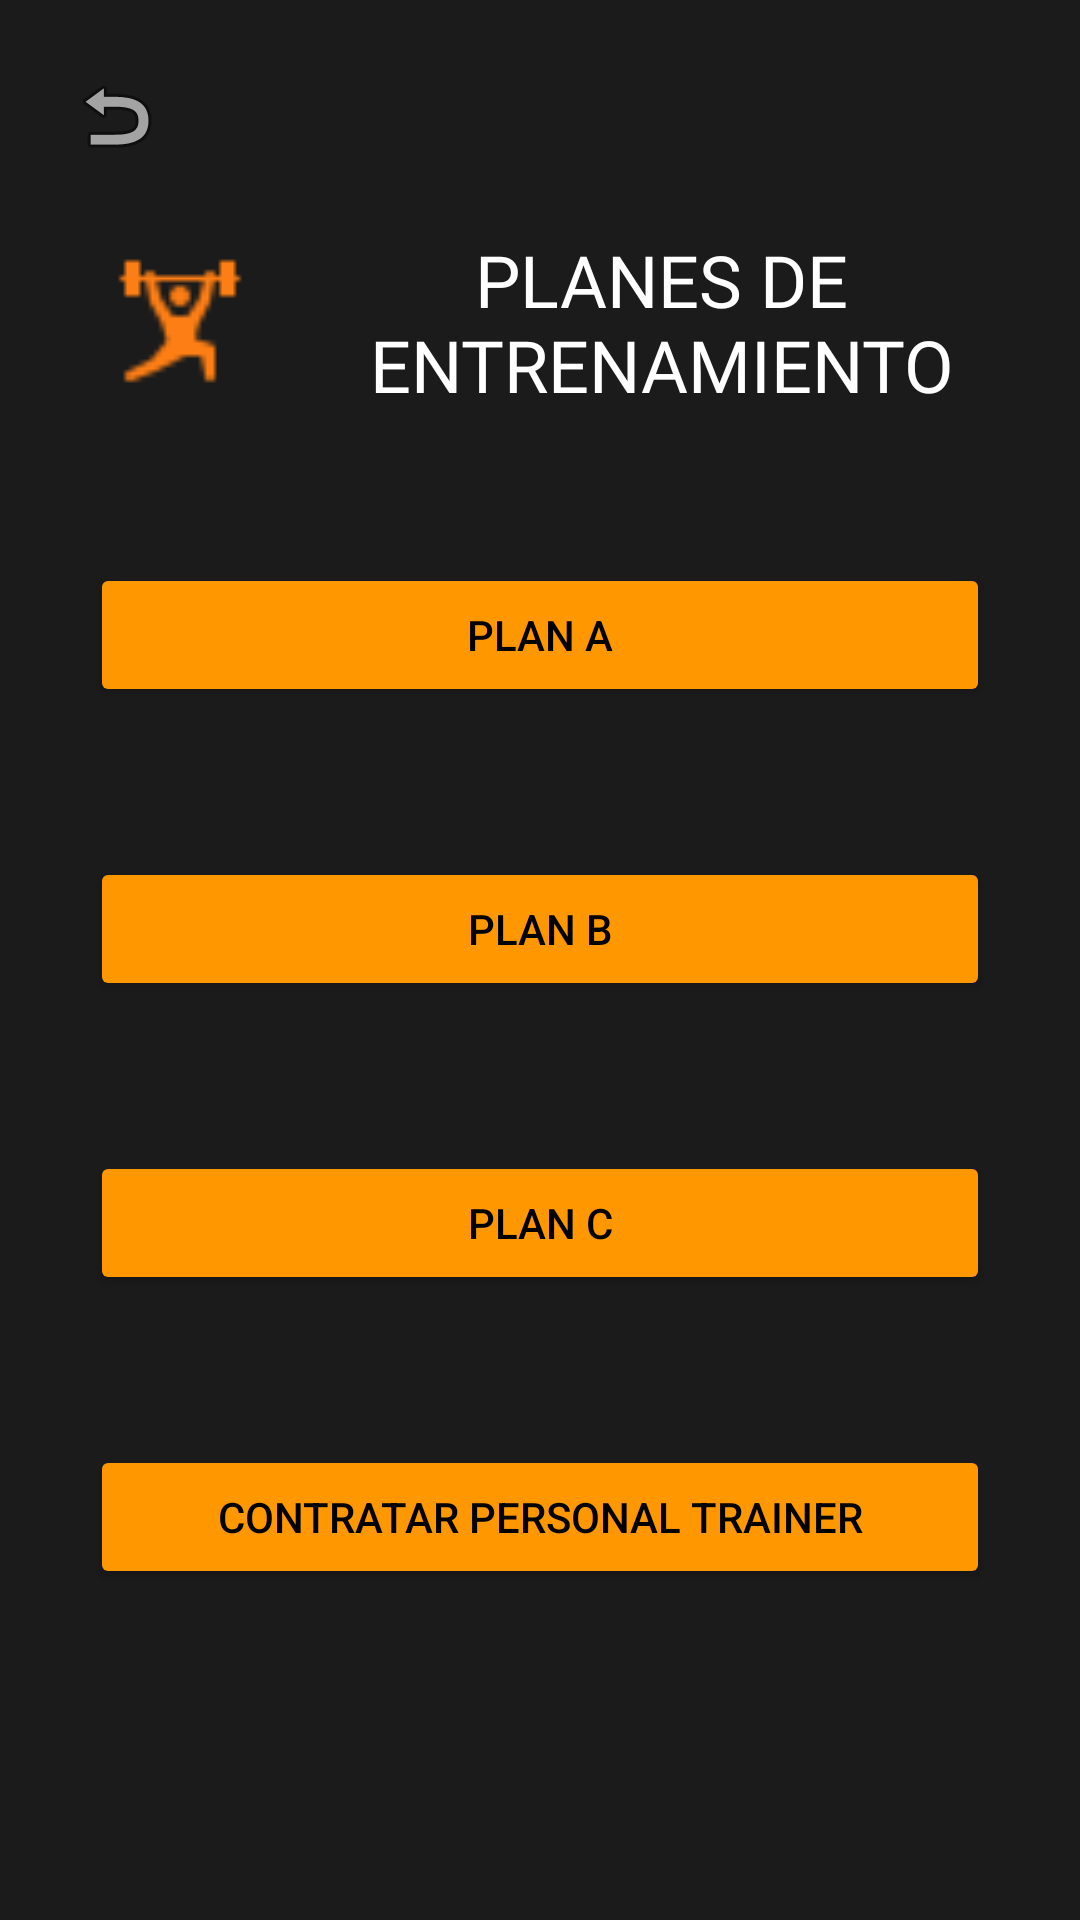

Named icons in this screenshot (1080 × 1920) and their bounding boxes, BBox(x1, y1, x2, y2):
volver: BBox(86, 88, 149, 145)
weightlifting: BBox(118, 259, 242, 383)
